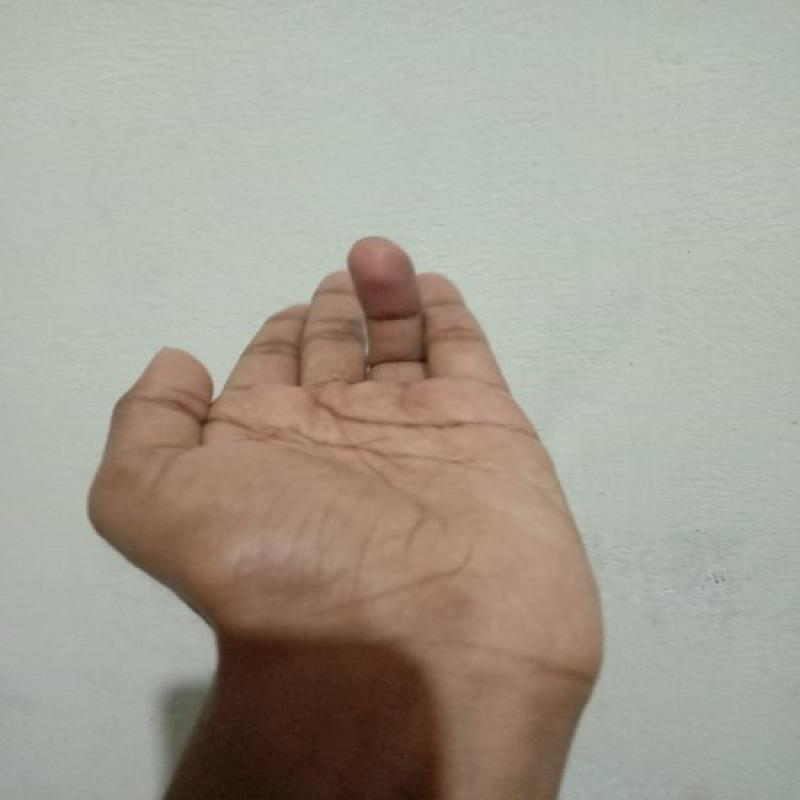Pathaaka: (74, 227, 625, 710)
